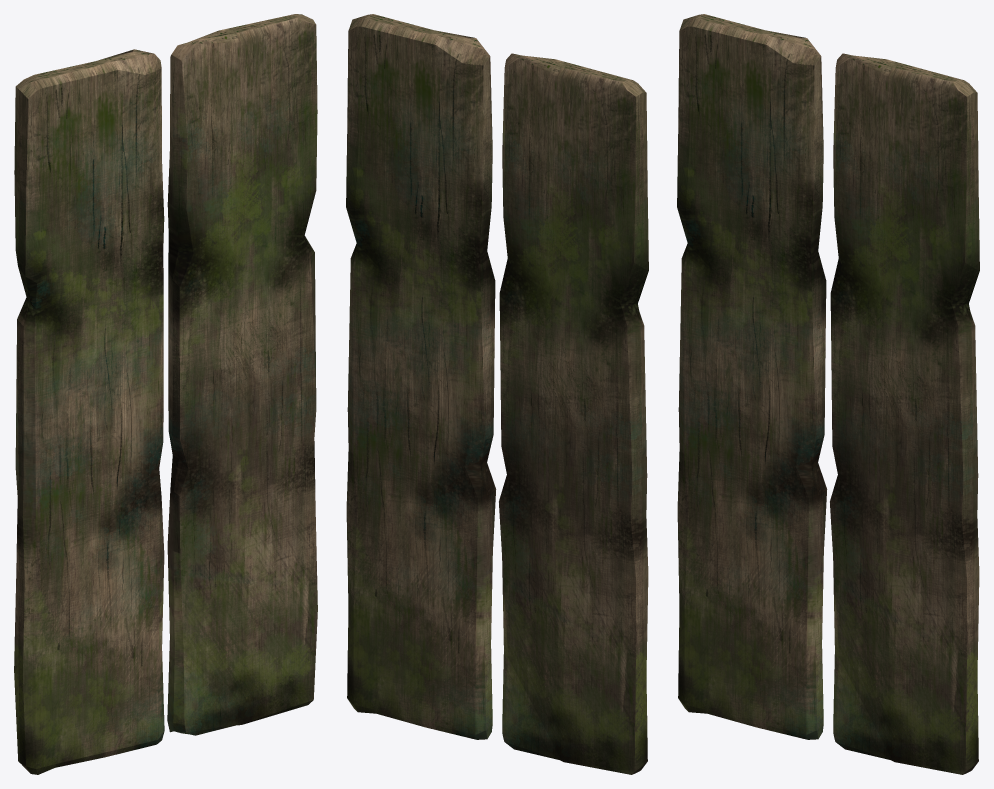
Rendered from wood_01.fbx.
3 renders of one model, left to right at view 1: azimuth 30°, elevation 25°; view 2: azimuth 150°, elevation 25°; view 3: azimuth 330°, elevation 25°, orthographic.
Parts seen in each view (by area): view 1: tahta_02.004, tahta_02.003; view 2: tahta_02.003, tahta_02.004; view 3: tahta_02.004, tahta_02.003.
Boxes of the visible parts, <box> form: tahta_02.004: <box>14,49,164,774</box>; tahta_02.003: <box>167,14,317,735</box>; tahta_02.003: <box>346,14,496,739</box>; tahta_02.004: <box>499,53,648,774</box>; tahta_02.004: <box>677,14,827,739</box>; tahta_02.003: <box>830,53,979,774</box>.
Size of the model in its own units: 969 by 2176 by 88.31.
1 material, 1 textured.
